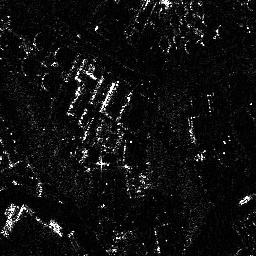ship: (238, 193, 255, 204)
